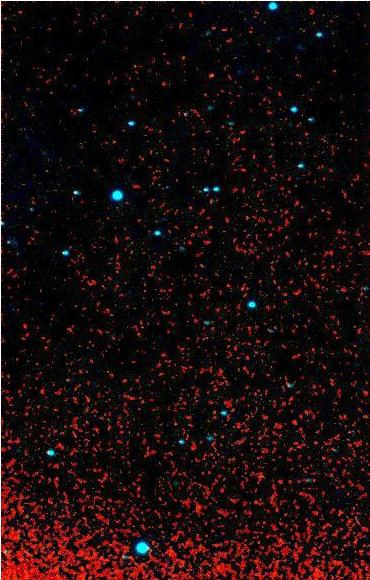star: (193, 62, 223, 92)
